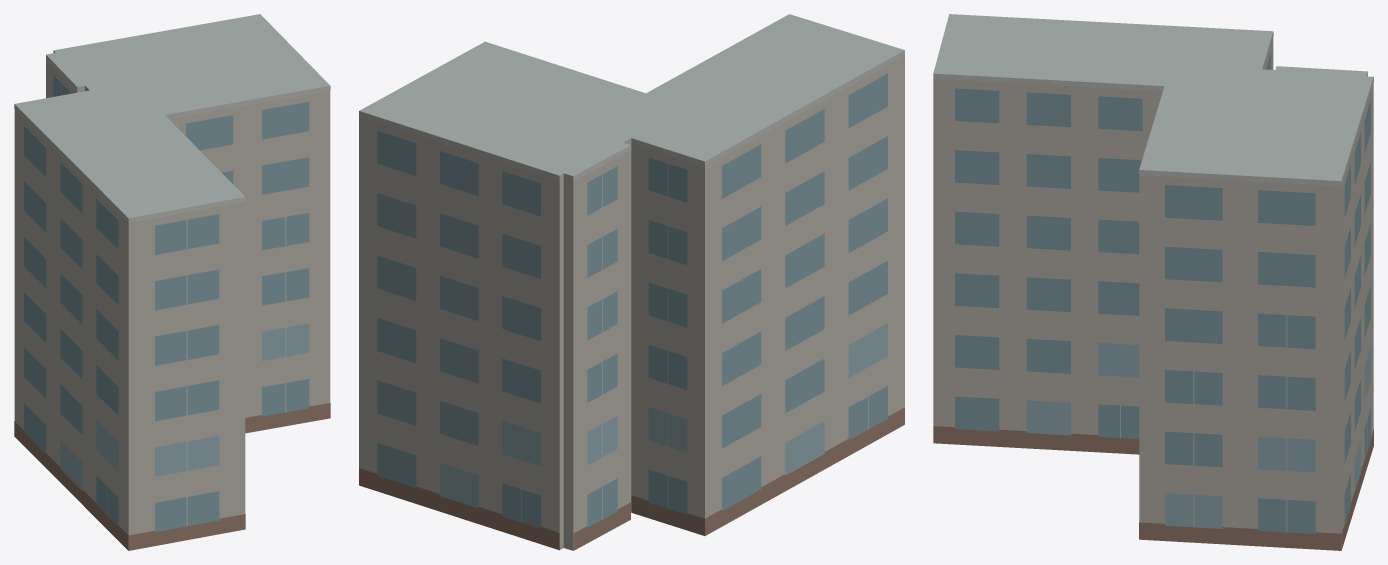
The model's file is survey-upis-33001719.glb.
The picture shows the model from 3 angles, left to right: view 1: azimuth 30°, elevation 25°; view 2: azimuth 150°, elevation 25°; view 3: azimuth 270°, elevation 25°; orthographic projection. The views are drawn at different scales.
Parts seen in each view (by area): view 1: survey-upis-33001719.tmp; view 2: survey-upis-33001719.tmp; view 3: survey-upis-33001719.tmp.
Boxes of the visible parts, x1,y1,x2,y2 form: survey-upis-33001719.tmp: [14, 14, 330, 550]; survey-upis-33001719.tmp: [359, 14, 904, 550]; survey-upis-33001719.tmp: [933, 14, 1373, 550].
Size of the model in its own units: 16.98 by 17.5 by 18.9.
